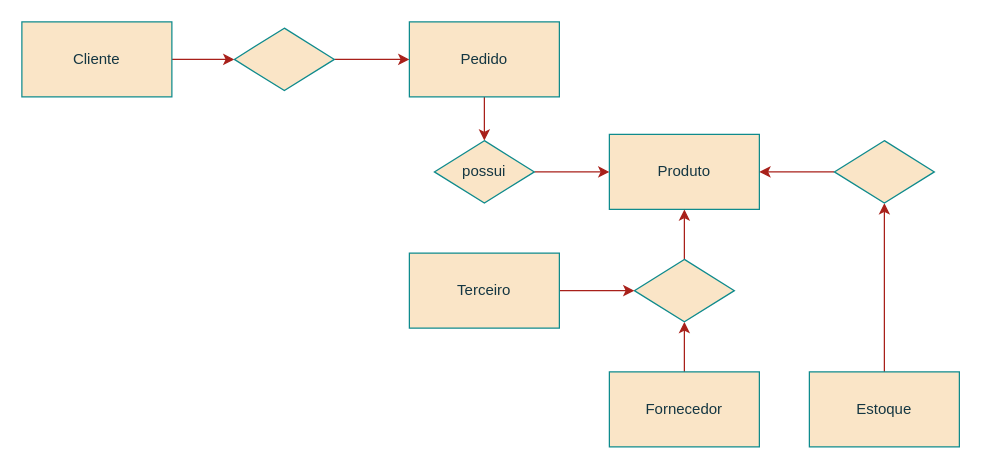
Some shapes in this 981 by 469 pixel diagram are drawn without their labels. Each missing label, with the centre of its shape:
contem: (883,171)
cria: (283,59)
fornece: (683,290)
